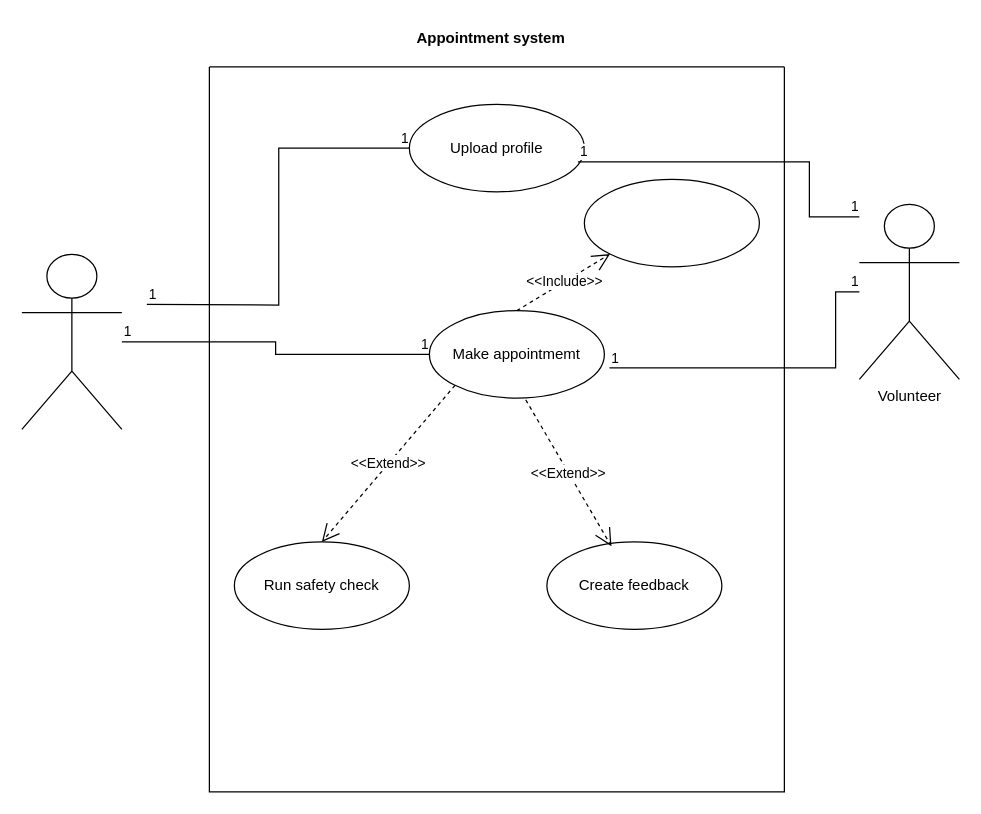
This 981x814 diagram has some shape labels left out. Each missing label, with the centre of its shape:
Requestor: (71,341)
Search other user: (671,222)
